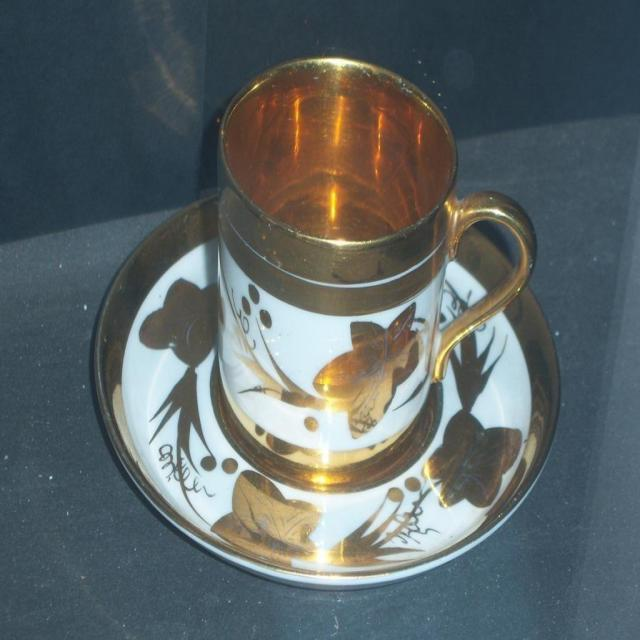cup-handle: (219, 56, 539, 483)
